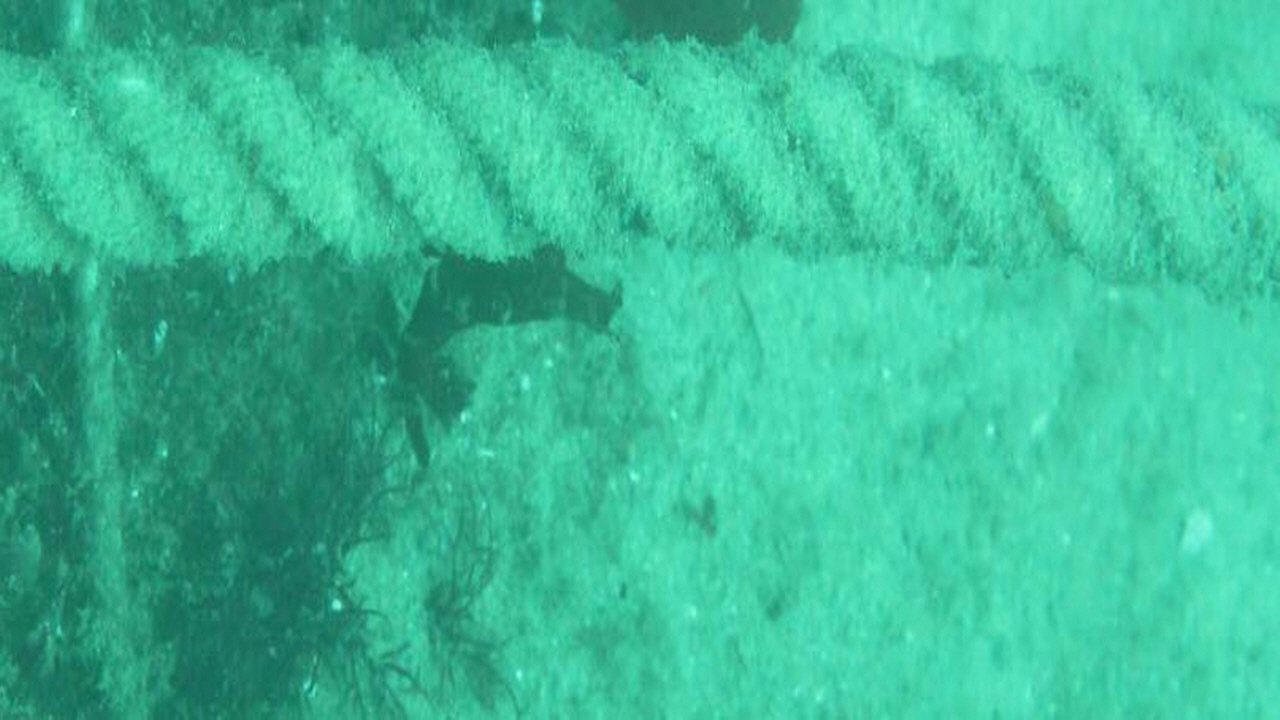rope: (0, 32, 1280, 294)
